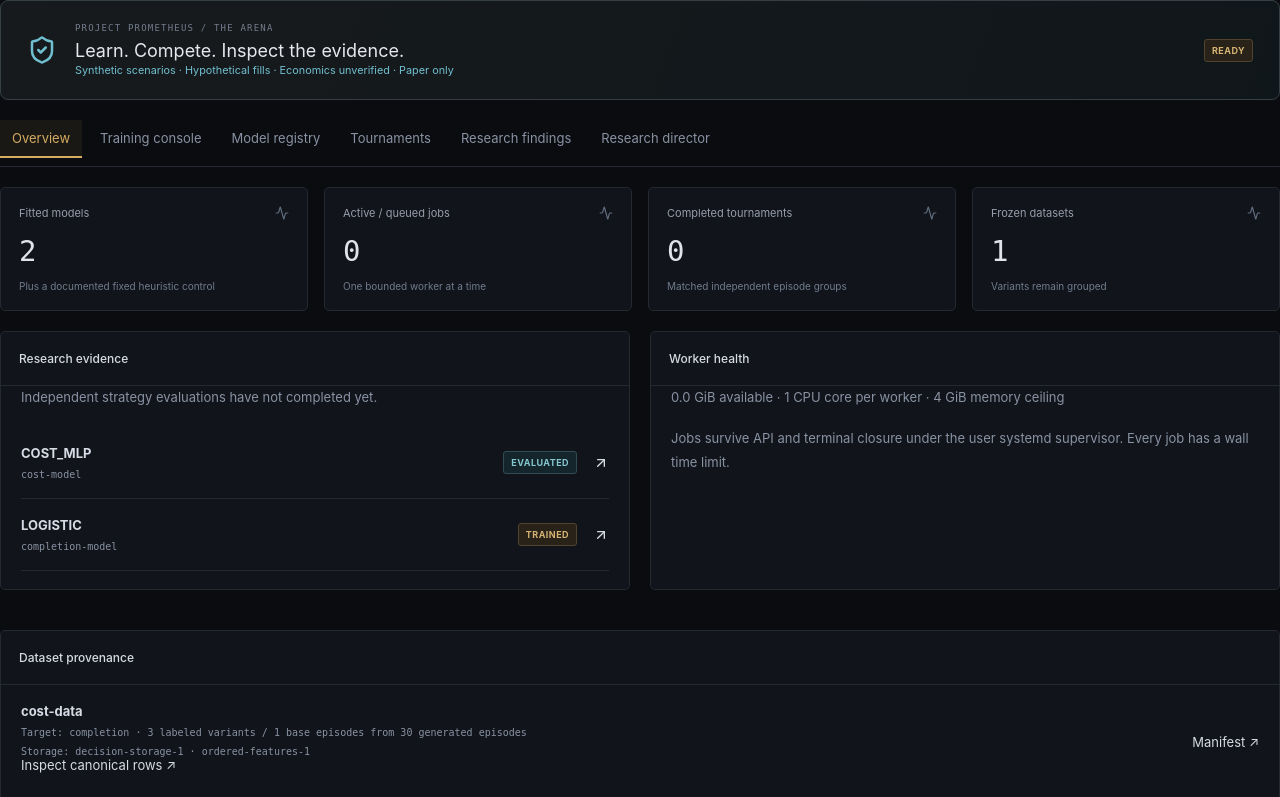
Scenario: submits a fresh cost-policy challenge with joint completion false
This screenshot has width=1280, height=797.
Click the tab "Tournaments". click: (391, 139)
box: x1=338 y1=120 x2=443 y2=158
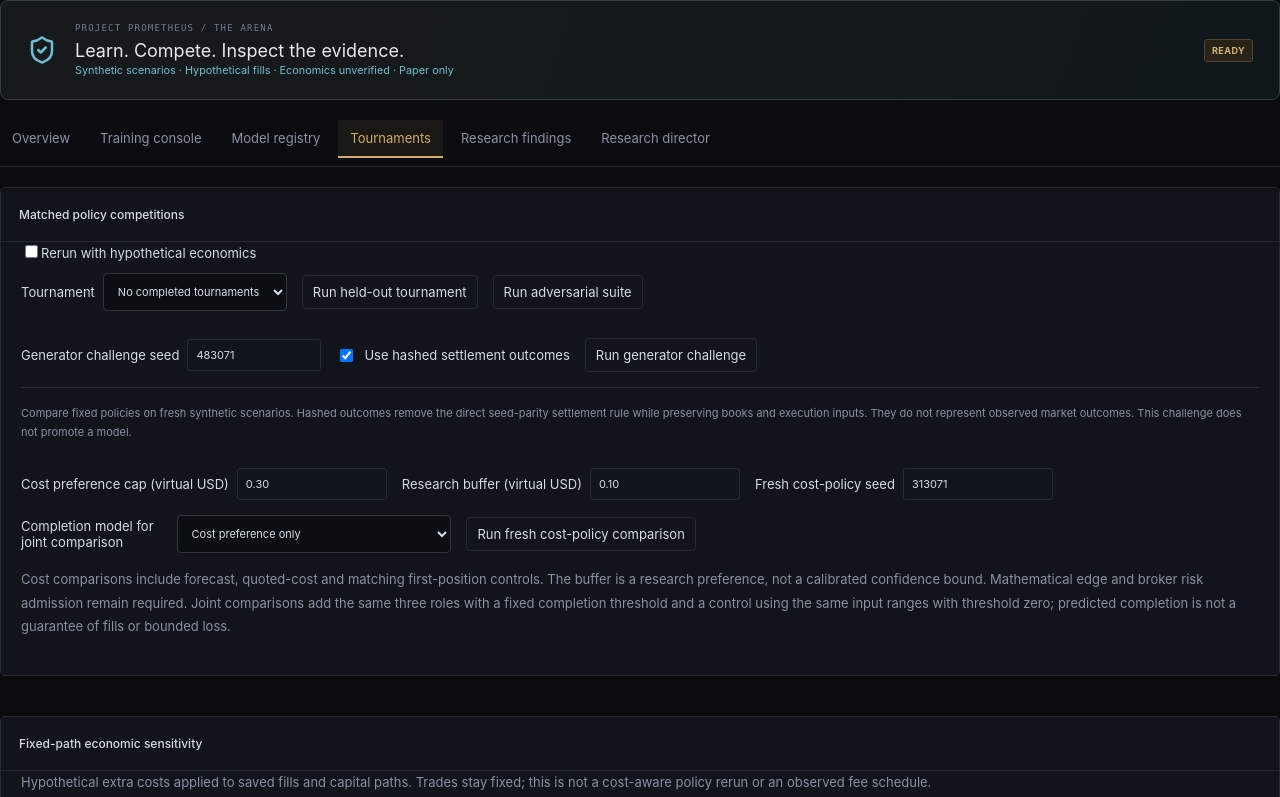
Click the button "Run fresh cost-policy comparison". click: (581, 534)
box: x1=466 y1=517 x2=696 y2=551
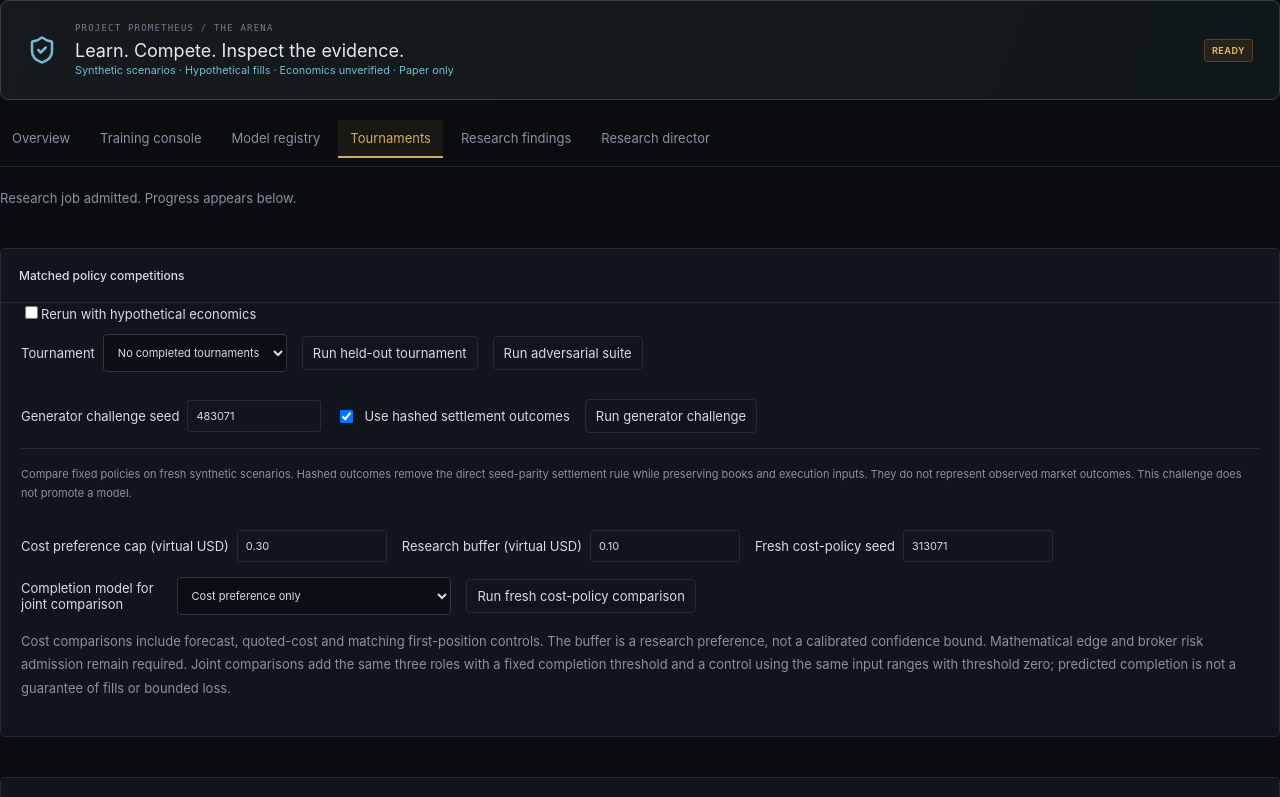
Expected: the text "Research job admitted. Progress appears below." is shown, x1=0 y1=190 x2=296 y2=206
